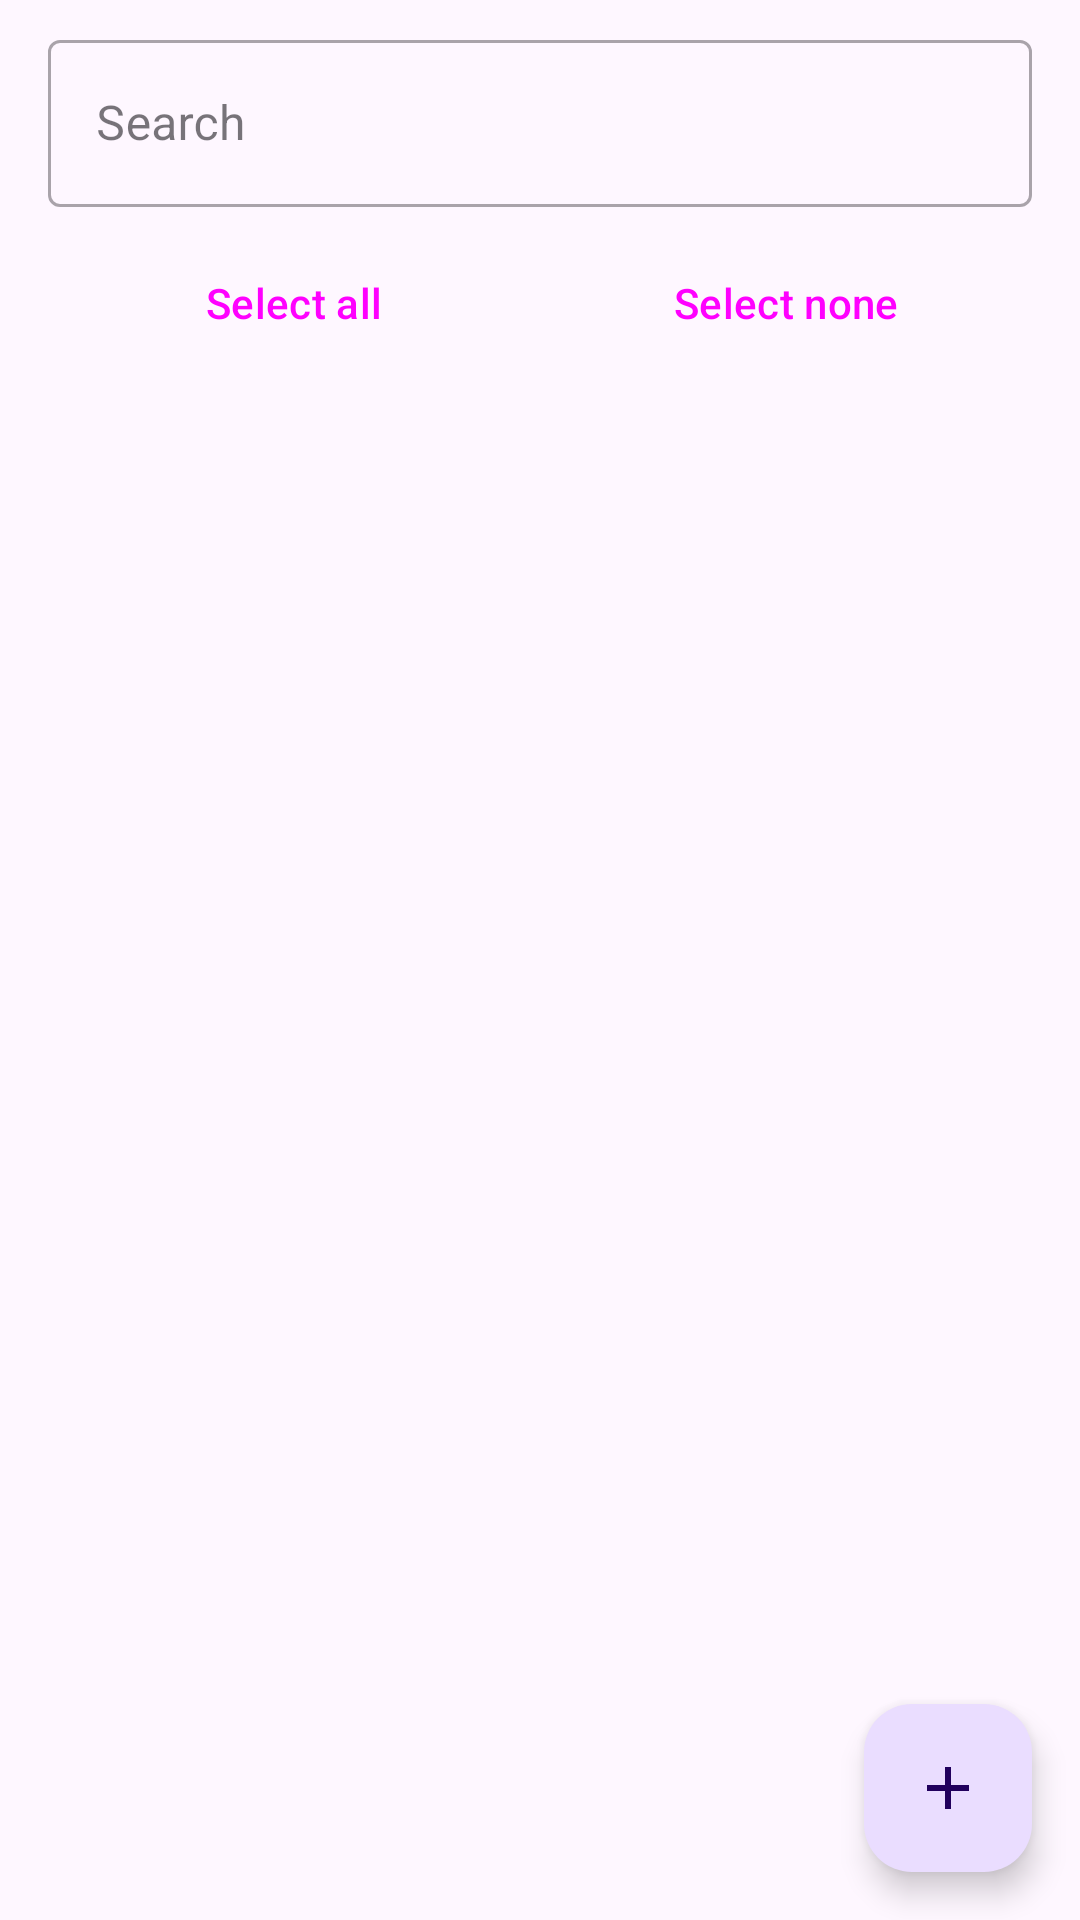

Screen size 1080w x 1920h. Icon name, then its box in pixels as region(x1, y1, x2, y2):
Add custom contact name: region(864, 1704, 1032, 1872)
